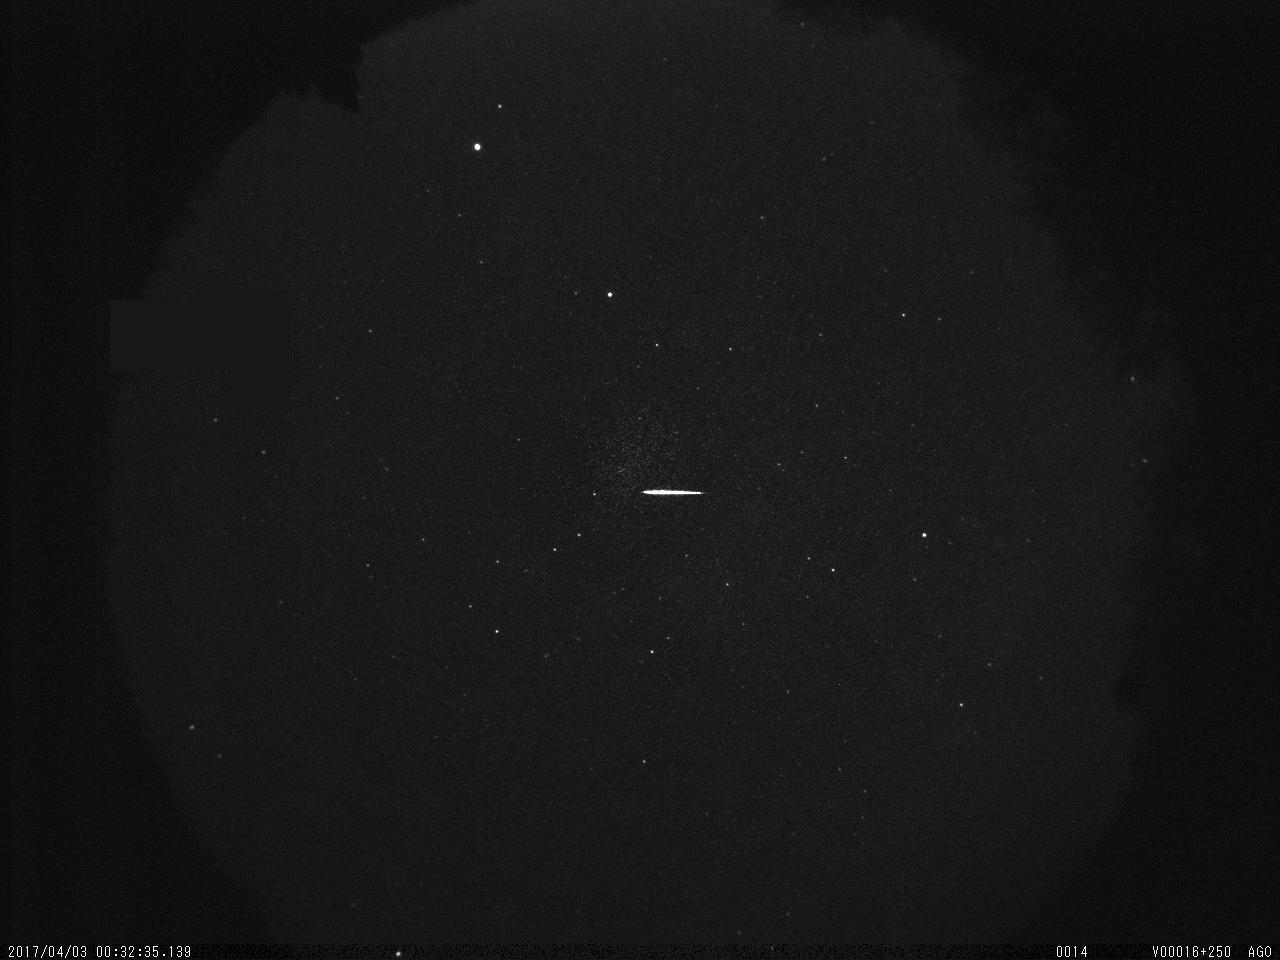Meteor: (639, 486, 706, 498)
